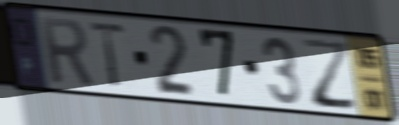2: (147, 23, 198, 99)
3: (261, 34, 301, 106)
7: (196, 26, 237, 103)
R: (36, 14, 97, 88)
T: (87, 19, 128, 90)
Z: (298, 36, 360, 113)
